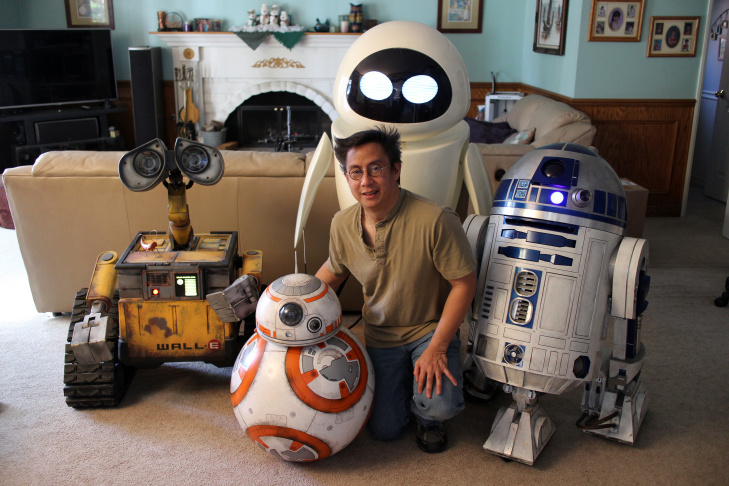r2d2: (488, 145, 652, 462)
